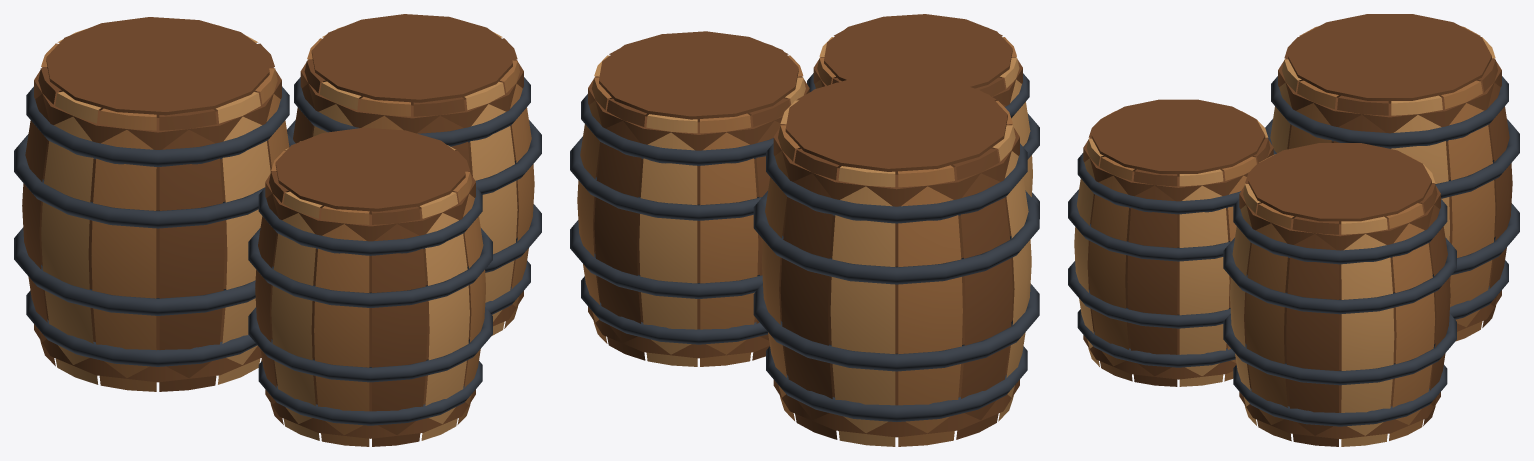
The model's file is BarrelGroup.glb.
The picture shows the model from 3 angles, left to right: view 1: azimuth 30°, elevation 25°; view 2: azimuth 150°, elevation 25°; view 3: azimuth 270°, elevation 25°; orthographic projection. The views are drawn at different scales.
Visible parts, largest first — view 1: Body; view 2: Body; view 3: Body.
Part boxes in pixels (x1,y1,x2,y2): Body: [14, 14, 541, 446]; Body: [570, 14, 1039, 446]; Body: [1068, 14, 1519, 446].
Size of the model in its own units: 3.91 by 2.22 by 3.63.
Materials: 1 (1 with a texture image).
